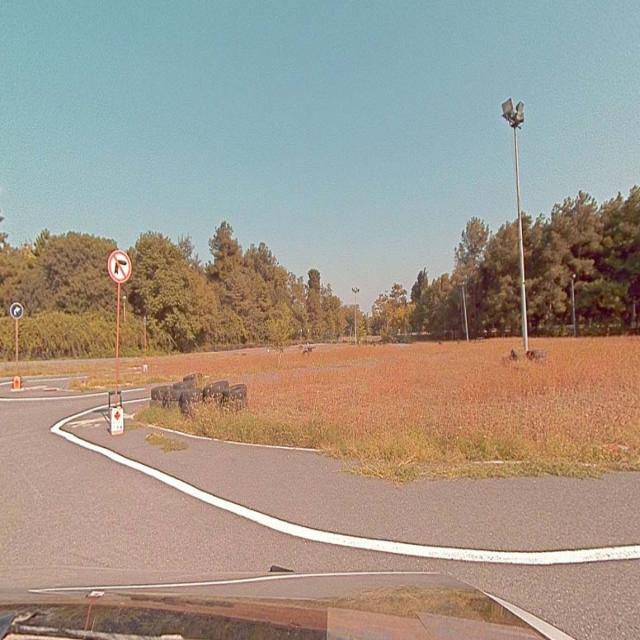sag: (11, 302, 22, 318)
sagadonulmez: (108, 250, 132, 282)
